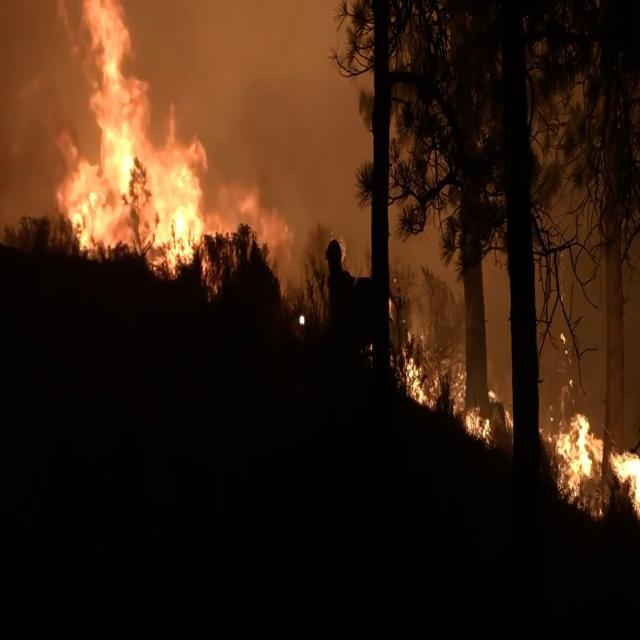Fire: (57, 3, 232, 289), (401, 312, 640, 519)
